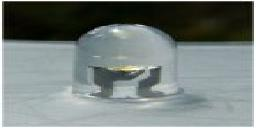LED: (69, 21, 183, 105)
